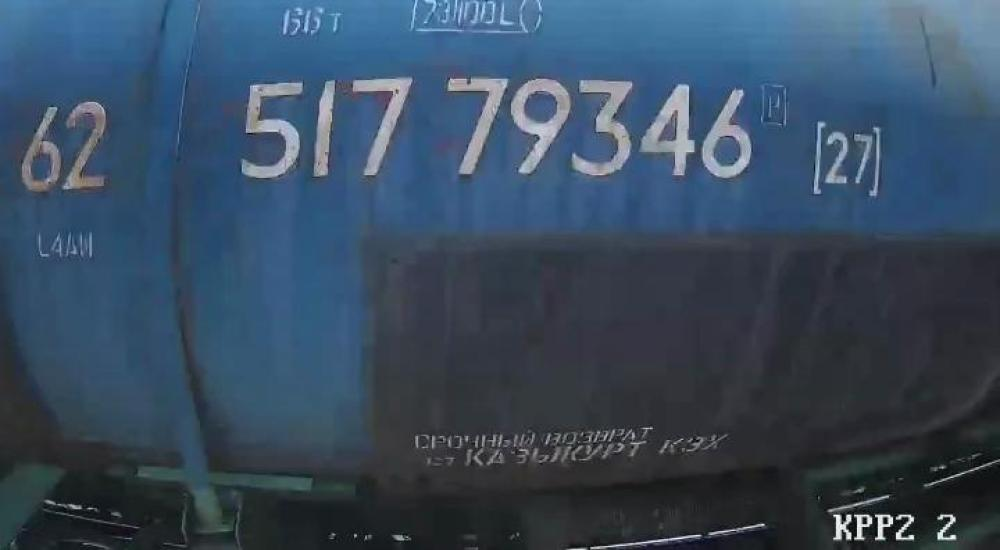Wagon-number: (234, 69, 757, 187)
